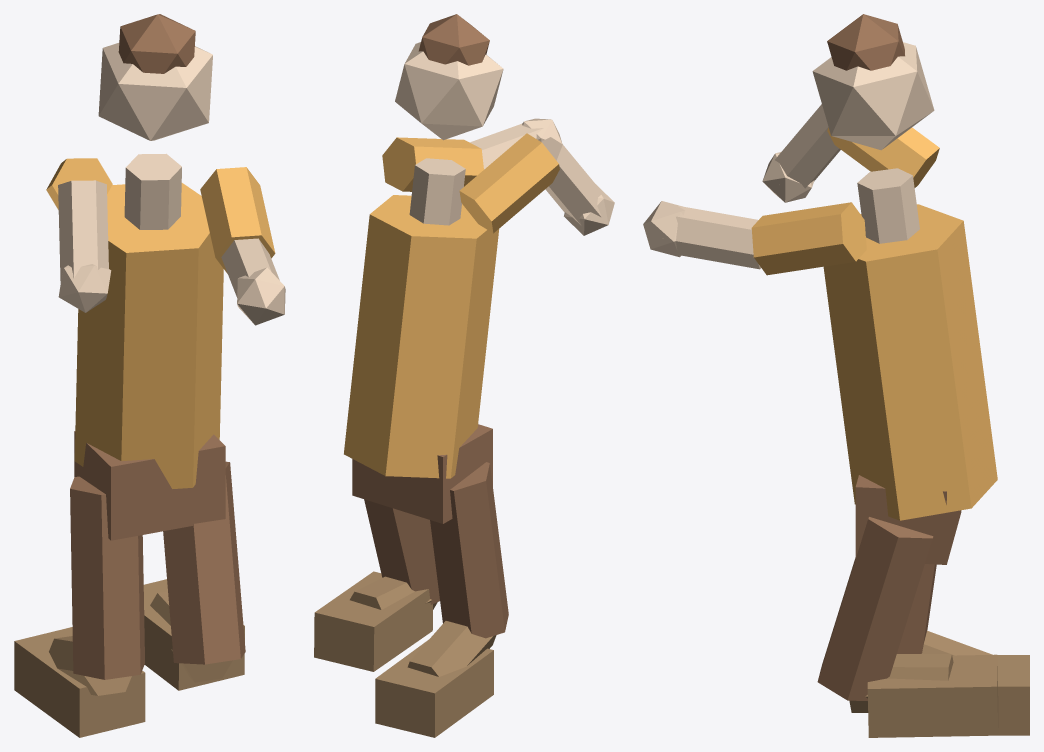
The model's file is pose_attack_1_19.glb.
3 views of the same model, side by side, from view 1: azimuth 30°, elevation 25°; view 2: azimuth 150°, elevation 25°; view 3: azimuth 270°, elevation 25° (orthographic). The views are drawn at different scales.
Visible parts, largest first — view 1: pose; view 2: pose; view 3: pose.
Boxes of the visible parts, bbox=[...] form: pose: bbox=[14, 14, 285, 737]; pose: bbox=[314, 14, 614, 737]; pose: bbox=[643, 14, 1029, 737].
Bounding box in the file's own units: 0.4799 × 1.47 × 0.7163.
